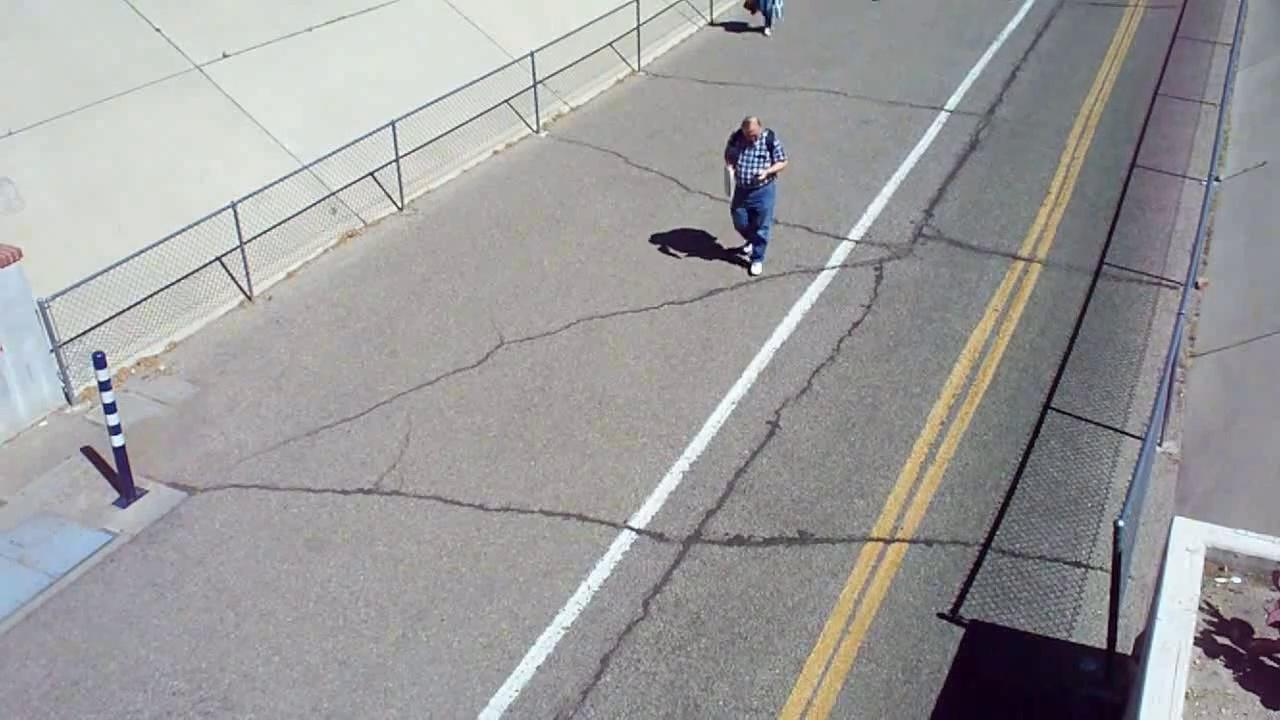Human: (721, 113, 787, 279), (741, 0, 792, 36)
Pedestrian: (186, 9, 1240, 720)
